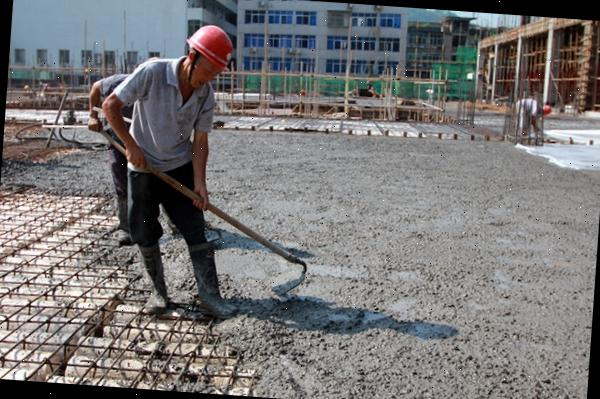helmet: (187, 22, 236, 62)
no_wear: (126, 76, 213, 176)
